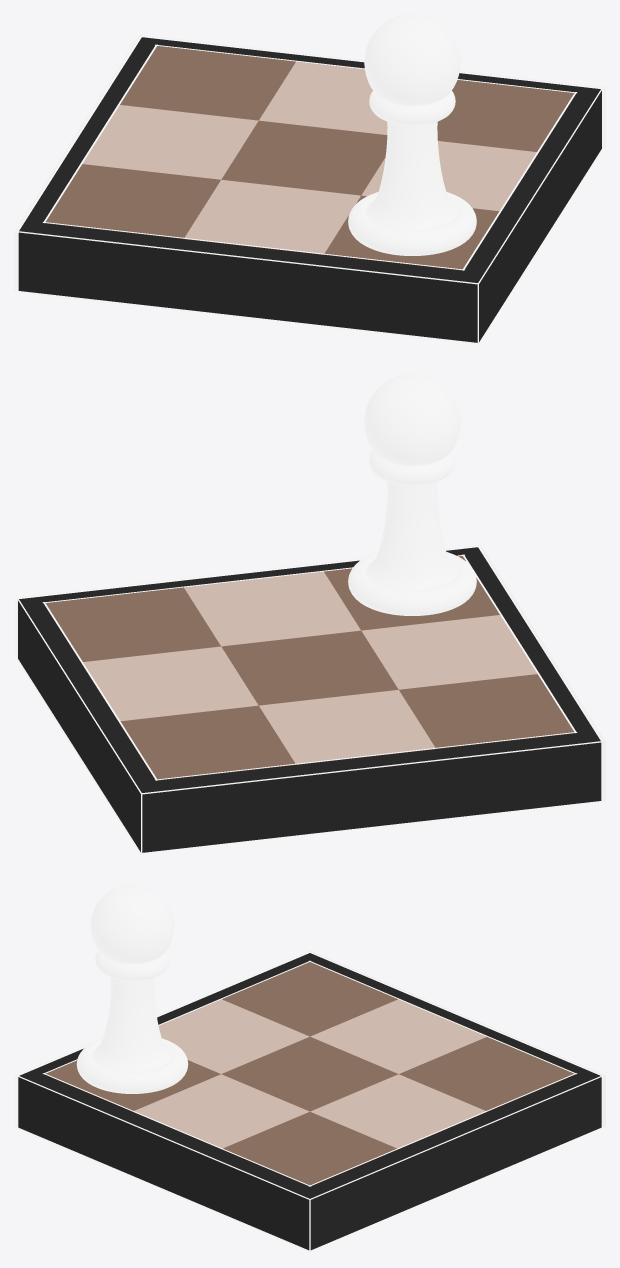
Rendered from ghost-site.glb.
The picture shows the model from 3 angles, top to bottom: view 1: azimuth 30°, elevation 25°; view 2: azimuth 150°, elevation 25°; view 3: azimuth 270°, elevation 25°; orthographic projection. The views are drawn at different scales.
Parts seen in each view (by area): view 1: Board_Tiles, Board_Slab, Ghost_Tail_Baked, Board_Wire, Pawn_Base_Baked, Board_Inner, Ghost_Collar_Baked, Board_Base; view 2: Board_Tiles, Board_Slab, Ghost_Tail_Baked, Board_Wire, Pawn_Base_Baked, Board_Inner, Ghost_Collar_Baked, Board_Base; view 3: Board_Tiles, Board_Slab, Ghost_Tail_Baked, Board_Wire, Pawn_Base_Baked, Board_Inner, Ghost_Collar_Baked, Board_Base.
Part boxes in pixels (<box>): Board_Tiles: <box>45,46,574,270</box>; Board_Slab: <box>14,34,605,345</box>; Ghost_Tail_Baked: <box>364,14,460,230</box>; Board_Wire: <box>17,36,602,344</box>; Pawn_Base_Baked: <box>348,192,476,255</box>; Board_Inner: <box>42,44,577,270</box>; Ghost_Collar_Baked: <box>369,90,455,125</box>; Board_Base: <box>44,95,575,272</box>; Board_Tiles: <box>45,556,574,780</box>; Board_Slab: <box>14,544,605,855</box>; Ghost_Tail_Baked: <box>364,374,460,590</box>; Board_Wire: <box>17,546,602,854</box>; Pawn_Base_Baked: <box>348,552,476,615</box>; Board_Inner: <box>42,554,577,780</box>; Ghost_Collar_Baked: <box>369,450,455,485</box>; Board_Base: <box>44,605,575,782</box>; Board_Tiles: <box>46,962,573,1185</box>; Board_Slab: <box>14,950,605,1253</box>; Ghost_Tail_Baked: <box>90,884,174,1072</box>; Board_Wire: <box>17,952,602,1251</box>; Pawn_Base_Baked: <box>76,1038,188,1093</box>; Board_Inner: <box>42,960,577,1186</box>; Ghost_Collar_Baked: <box>95,951,169,980</box>; Board_Base: <box>44,1075,575,1187</box>.
Size of what is drawn, in the model's own units: 3.54 by 1.58 by 3.54.
